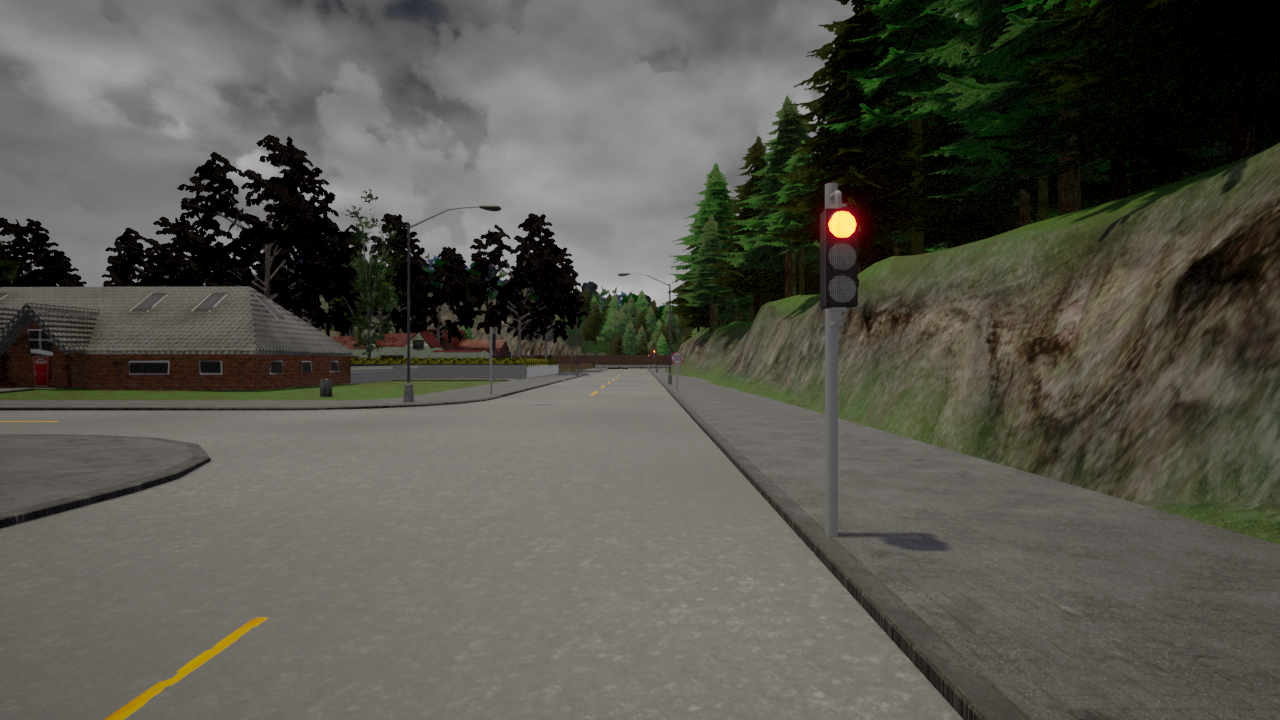red: (820, 201, 862, 311)
